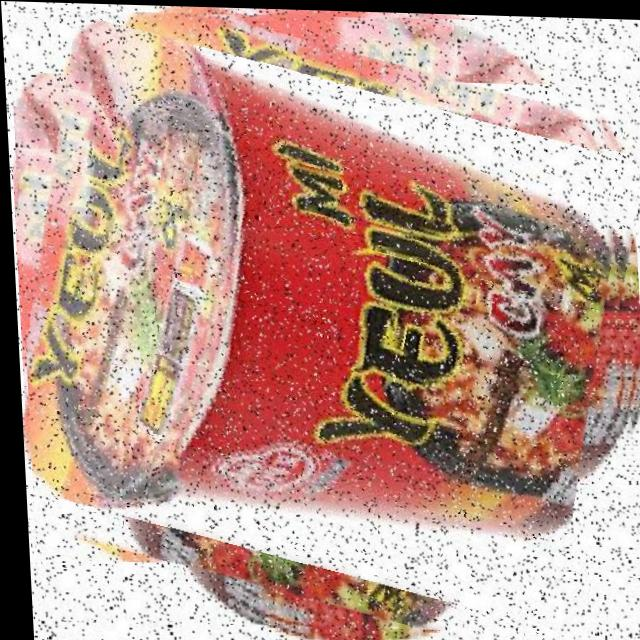Miscellaneous: (7, 4, 640, 632)
